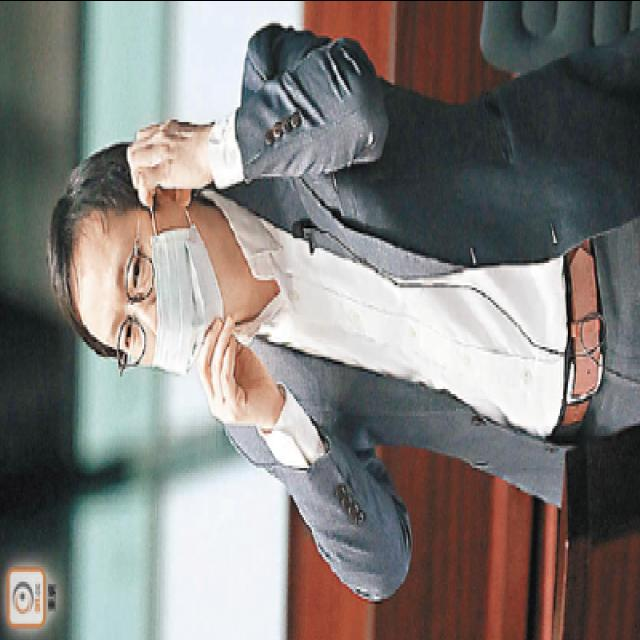mask: (110, 208, 222, 370)
